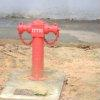a fire hydrant: (18, 18, 62, 82)
